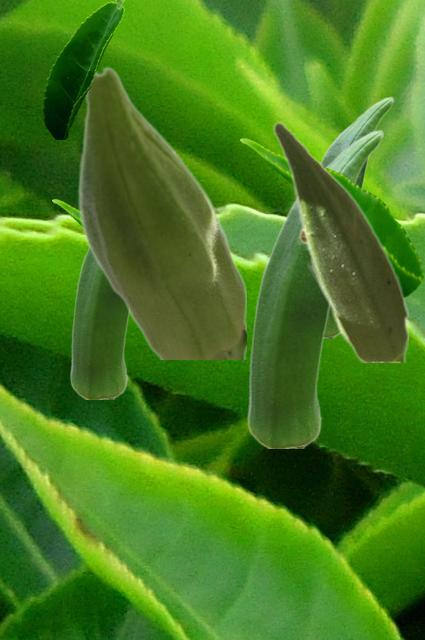okra: (77, 66, 245, 358), (246, 129, 383, 447), (272, 120, 407, 361), (321, 96, 393, 337), (69, 248, 129, 398)
